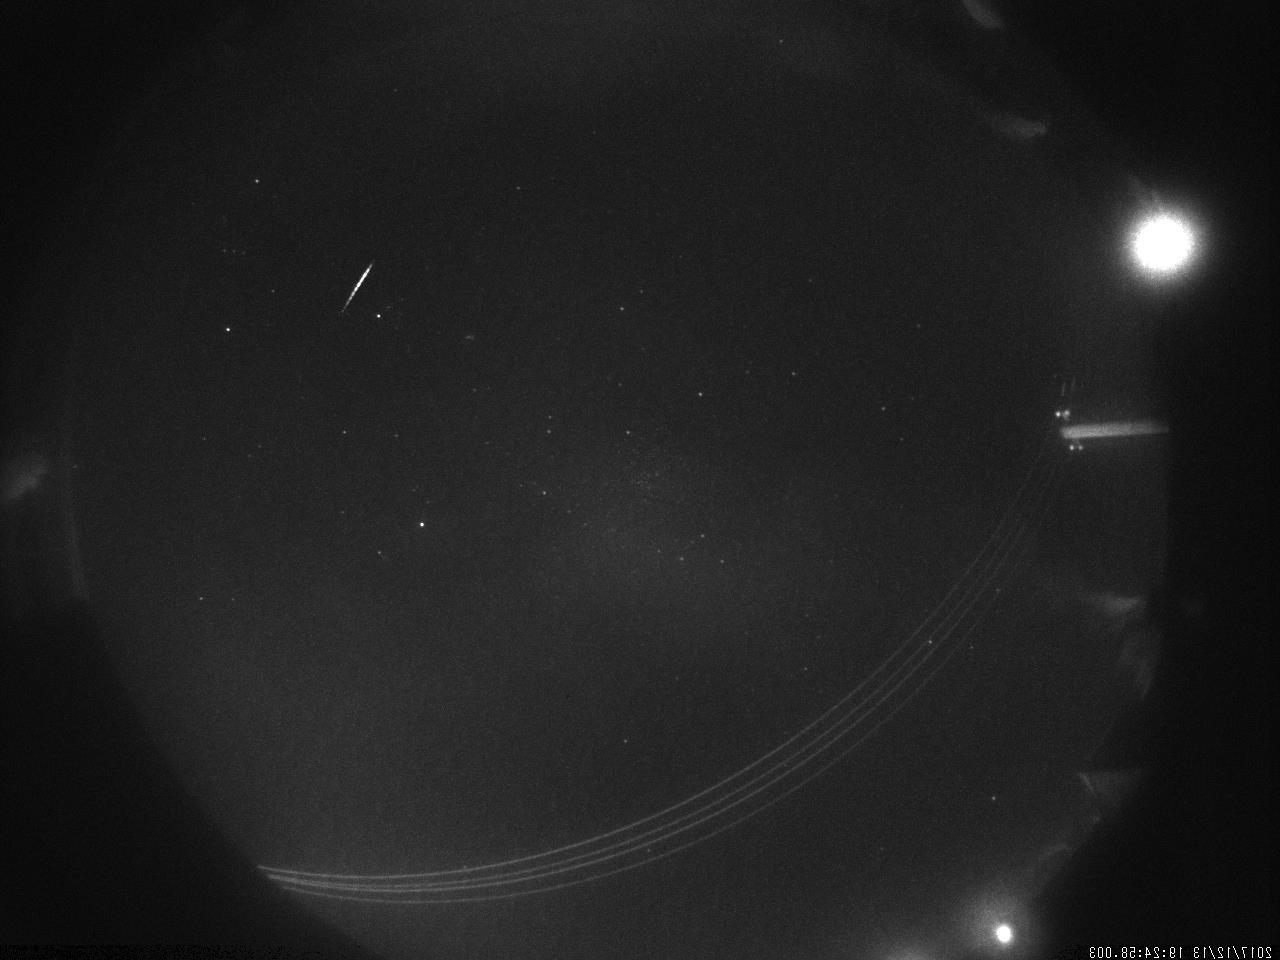meteor: (274, 247, 398, 338)
